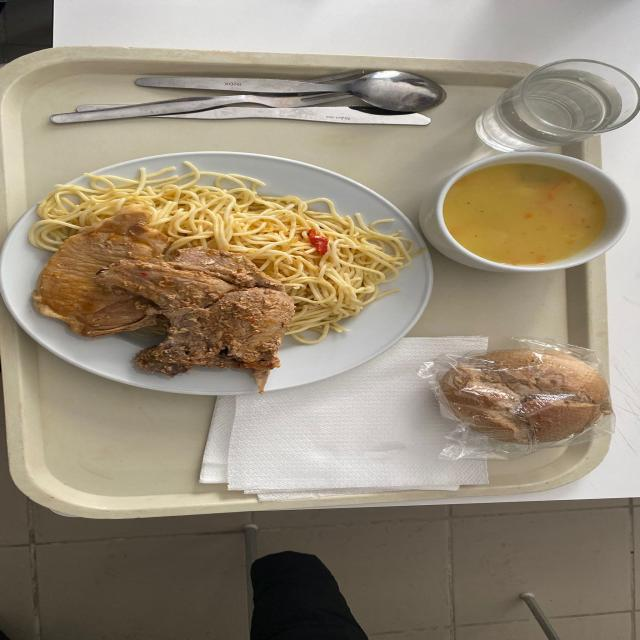board: (0, 47, 629, 518)
bread: (420, 341, 611, 459)
fork: (50, 92, 347, 123)
garbage: (200, 337, 487, 500)
knife: (156, 104, 429, 126)
plate: (0, 152, 432, 395)
pork loin: (33, 200, 294, 392)
soup: (442, 164, 607, 267)
soupbowl: (419, 152, 629, 274)
spaghetti: (29, 161, 419, 344)
spoon: (135, 70, 446, 113)
water cup: (476, 59, 639, 152)
